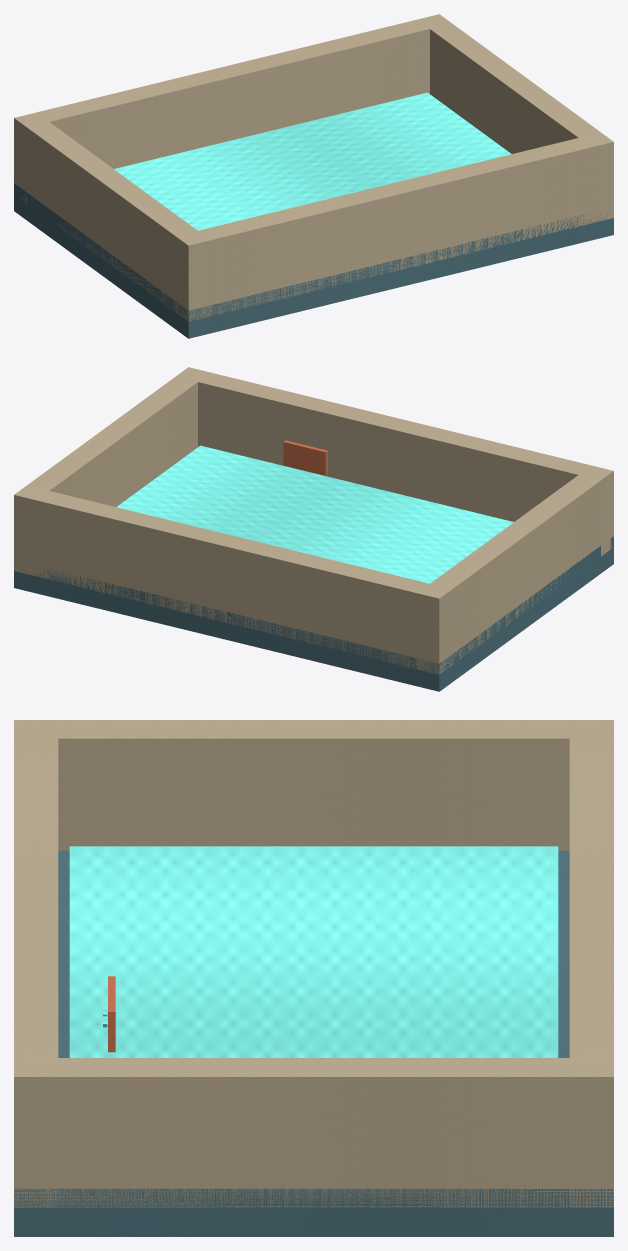
The model's file is atlas100-s042-a01.lod1.glb.
3 renders of one model, top to bottom at view 1: azimuth 30°, elevation 25°; view 2: azimuth 150°, elevation 25°; view 3: azimuth 270°, elevation 25°, orthographic. The views are drawn at different scales.
Visible parts, largest first — view 1: atlas100-s042-a01:part-005, atlas100-s042-a01:part-004, atlas100-s042-a01:part-001, atlas100-s042-a01:part-002, atlas100-s042-a01:part-000, atlas100-s042-a01:part-003; view 2: atlas100-s042-a01:part-004, atlas100-s042-a01:part-005, atlas100-s042-a01:part-001, atlas100-s042-a01:part-002, atlas100-s042-a01:part-000, atlas100-s042-a01:part-003, atlas100-s042-a01:part-006; view 3: atlas100-s042-a01:part-001, atlas100-s042-a01:part-003, atlas100-s042-a01:part-002, atlas100-s042-a01:part-000, atlas100-s042-a01:part-004, atlas100-s042-a01:part-005.
Part boxes in pixels (left/top/right/bottom): atlas100-s042-a01:part-005: left=175, top=132, right=613, bottom=320; atlas100-s042-a01:part-004: left=14, top=14, right=450, bottom=203; atlas100-s042-a01:part-001: left=114, top=92, right=511, bottom=230; atlas100-s042-a01:part-002: left=14, top=112, right=210, bottom=321; atlas100-s042-a01:part-000: left=14, top=94, right=613, bottom=338; atlas100-s042-a01:part-003: left=418, top=14, right=613, bottom=220; atlas100-s042-a01:part-004: left=14, top=485, right=452, bottom=673; atlas100-s042-a01:part-005: left=176, top=367, right=613, bottom=556; atlas100-s042-a01:part-001: left=116, top=445, right=513, bottom=583; atlas100-s042-a01:part-002: left=417, top=465, right=613, bottom=674; atlas100-s042-a01:part-000: left=14, top=447, right=613, bottom=691; atlas100-s042-a01:part-003: left=14, top=367, right=210, bottom=576; atlas100-s042-a01:part-006: left=283, top=440, right=327, bottom=475; atlas100-s042-a01:part-001: left=69, top=846, right=558, bottom=1057; atlas100-s042-a01:part-003: left=14, top=1058, right=613, bottom=1207; atlas100-s042-a01:part-002: left=14, top=720, right=613, bottom=850; atlas100-s042-a01:part-000: left=14, top=850, right=613, bottom=1236; atlas100-s042-a01:part-004: left=569, top=720, right=613, bottom=1207; atlas100-s042-a01:part-005: left=14, top=720, right=58, bottom=1207.
Size of the model in its own units: 3.8 by 0.795 by 2.7.
4 materials, 4 textured.
